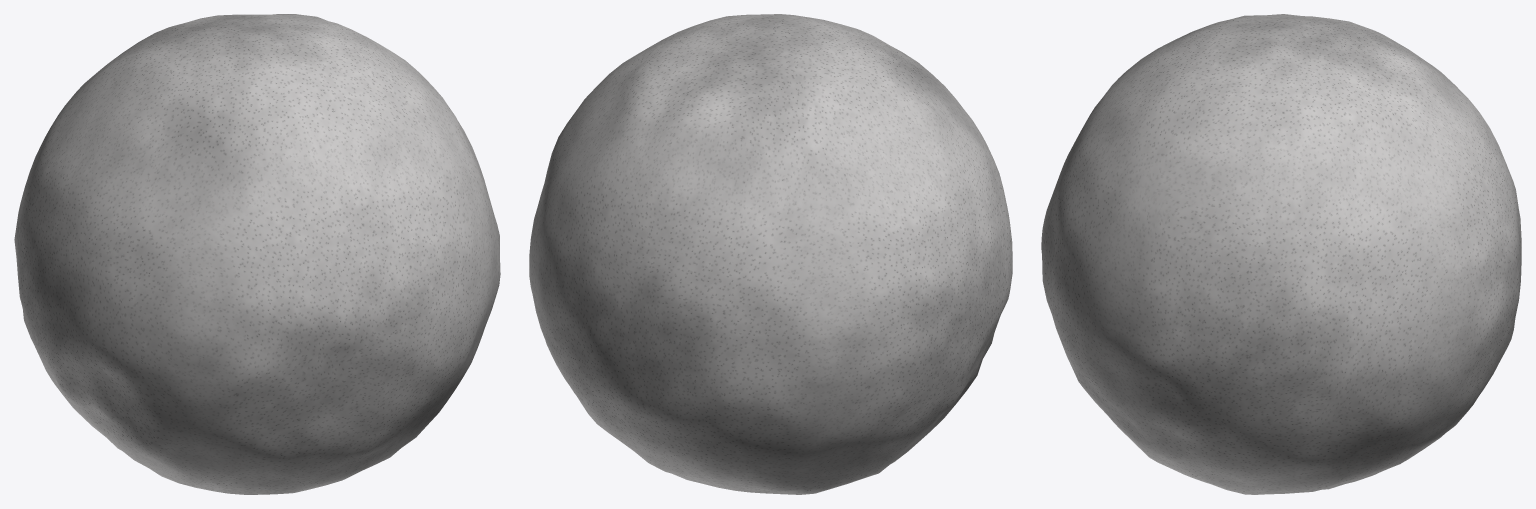
The model's file is MoonDisc.fbx.
3 renders of one model, left to right at view 1: azimuth 30°, elevation 25°; view 2: azimuth 150°, elevation 25°; view 3: azimuth 270°, elevation 25°, orthographic.
Parts seen in each view (by area): view 1: MoonDisc; view 2: MoonDisc; view 3: MoonDisc.
Boxes of the visible parts, x1=… form: MoonDisc: x1=14, y1=14, x2=500, y2=494; MoonDisc: x1=529, y1=14, x2=1012, y2=494; MoonDisc: x1=1041, y1=14, x2=1521, y2=494.
Size of the model in its own units: 201 by 200 by 199.
